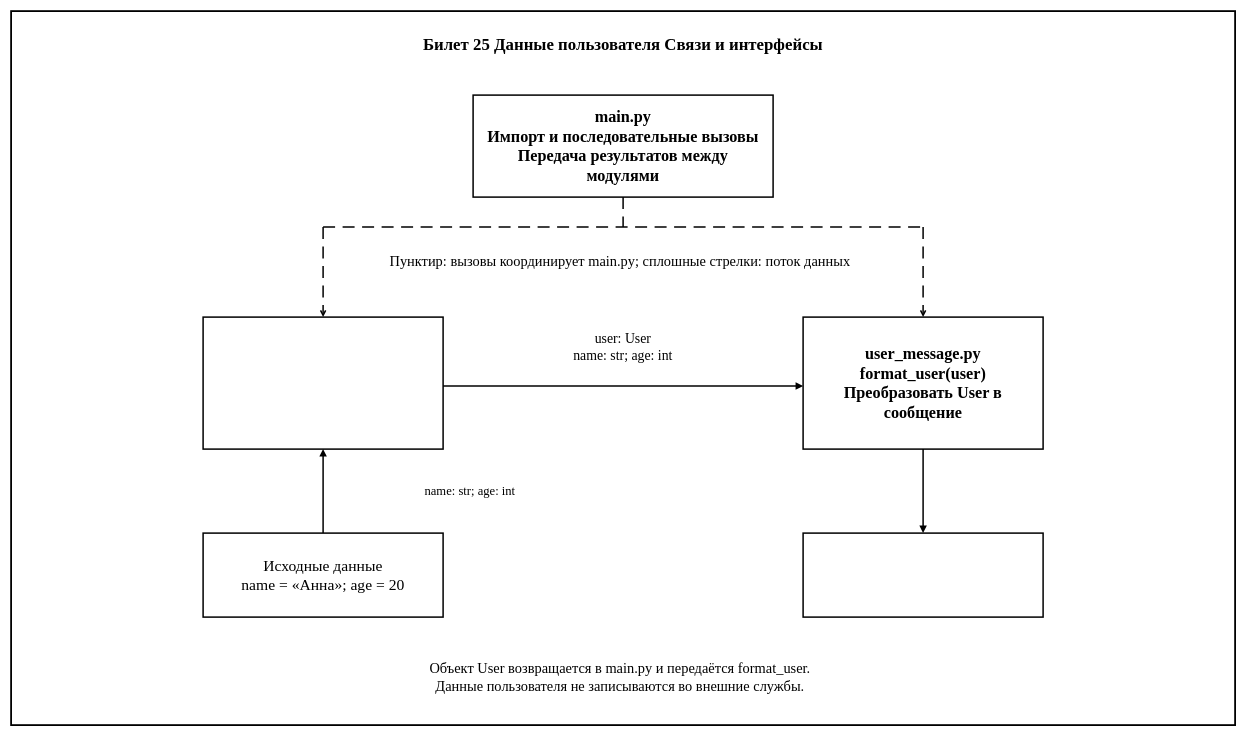
The diagram is 1246 pixels wide and 736 high, and some of its shapes have lost their labels. Each missing label, with the centre of its shape:
user_data.py create_user(name, age) Проверить поля и создать User: [323,383]
Экран «Пользователь: Анна. Возраст: 20.»: [923,575]
